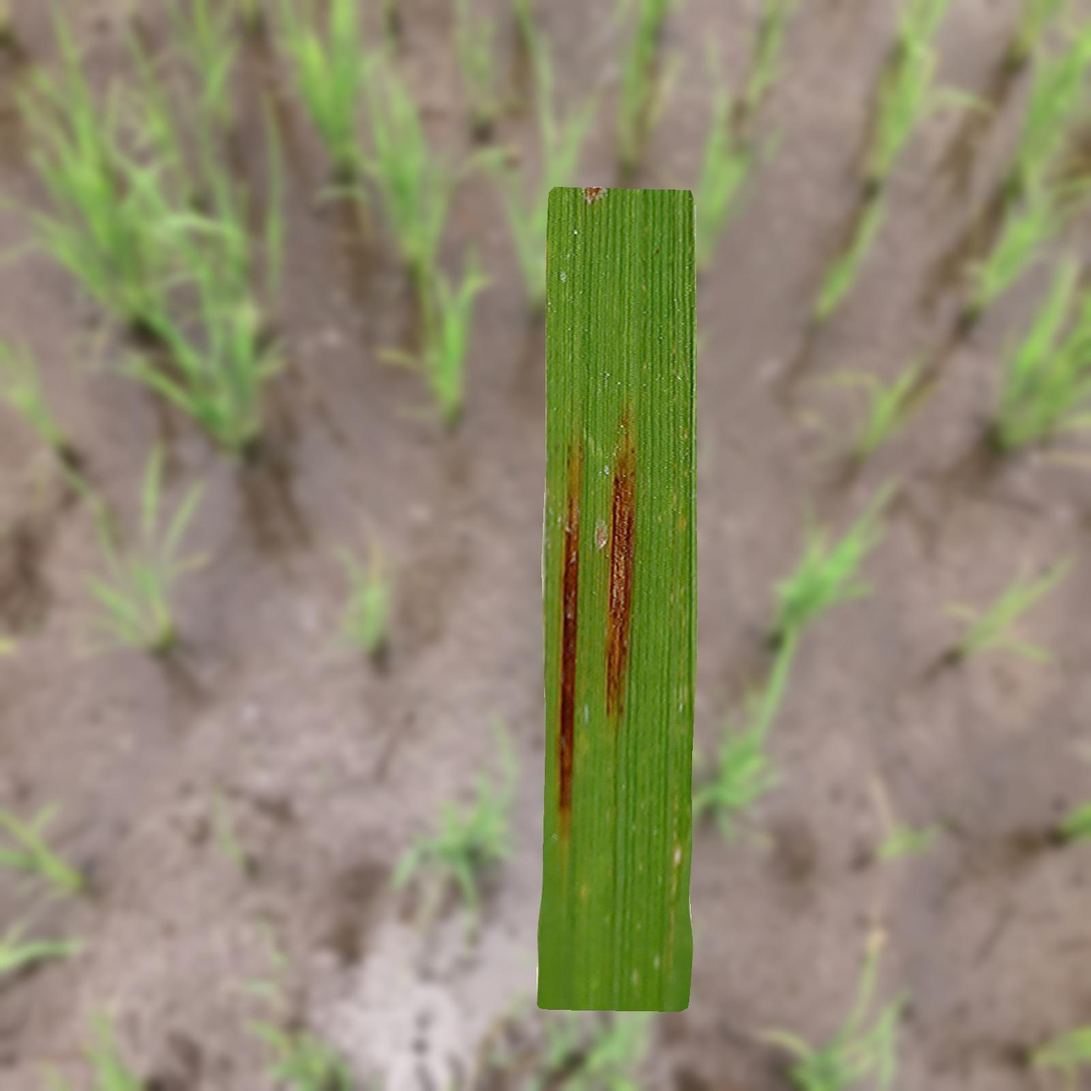LEAF: (537, 187, 697, 1011)
NBS: (558, 452, 580, 833), (606, 430, 634, 718), (584, 187, 608, 204), (595, 520, 606, 549)
